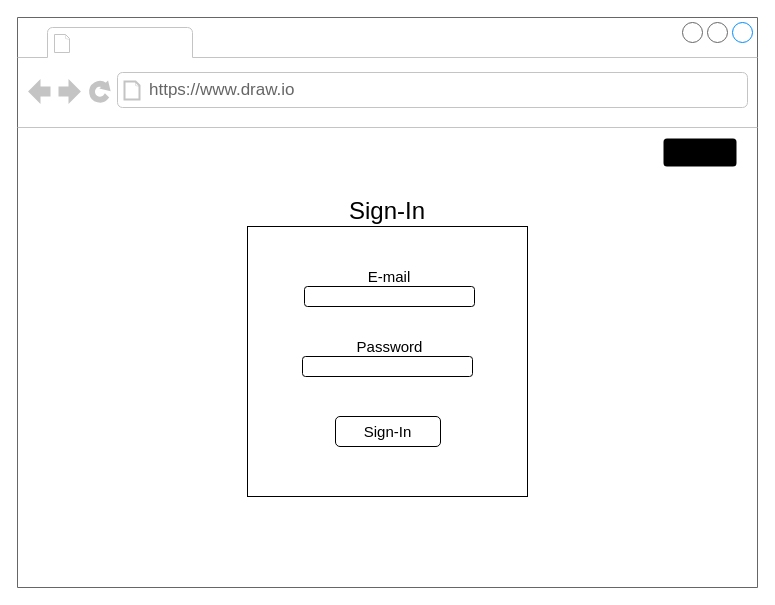
Image size: 775x605. Some labels were removed from this diagram. Each missing label, with the box of its shape:
Page 1: (76, 28, 188, 56)
Register: (661, 136, 738, 168)
